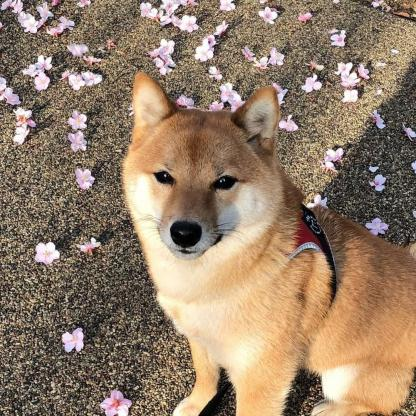Siba-ny: (119, 67, 415, 415)
